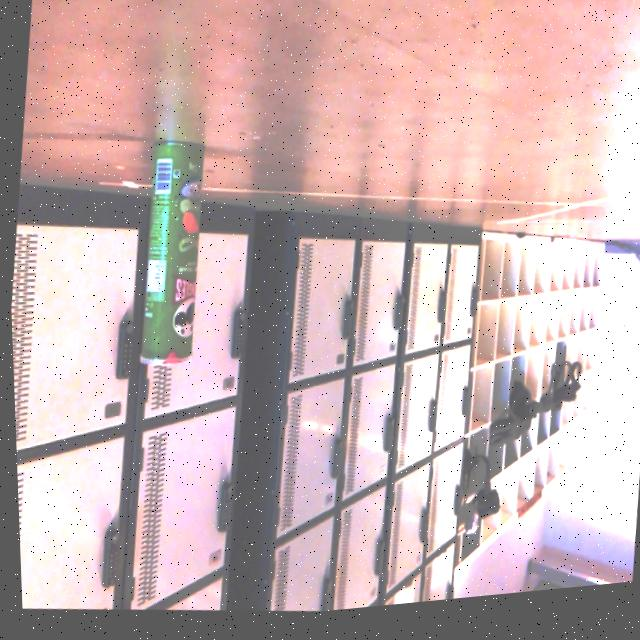greenpringles: (115, 120, 234, 396)
